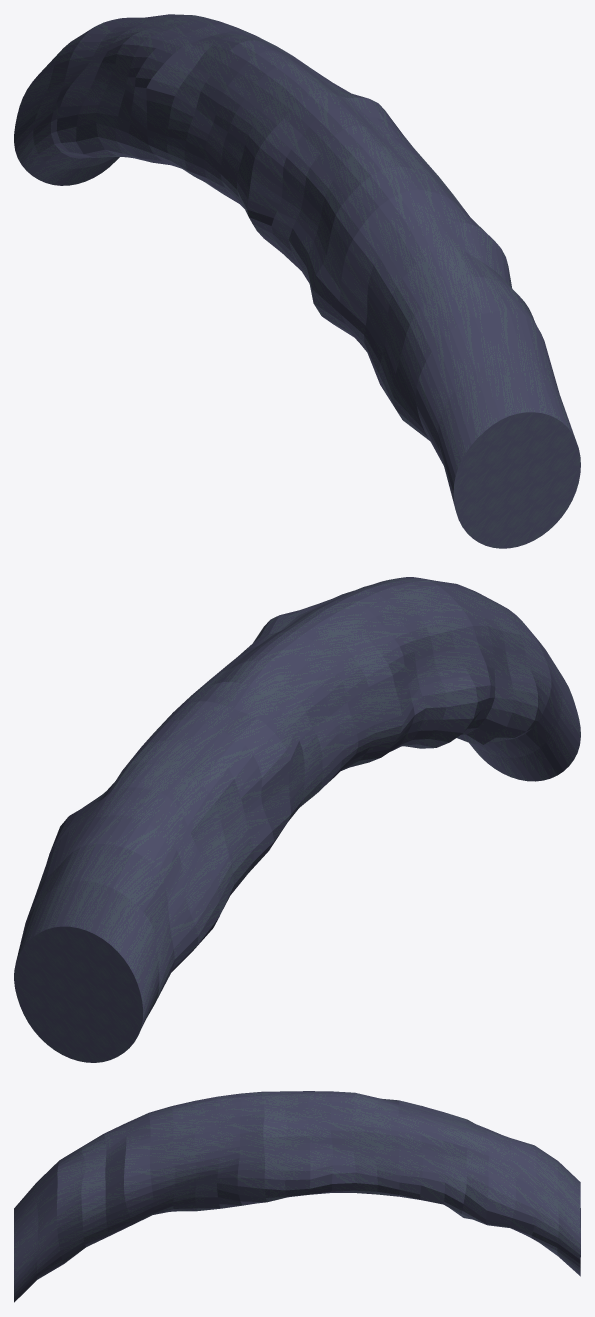
File: SteinBogen.fbx
The picture shows the model from 3 angles, top to bottom: view 1: azimuth 30°, elevation 25°; view 2: azimuth 150°, elevation 25°; view 3: azimuth 270°, elevation 25°; orthographic projection. The views are drawn at different scales.
Visible parts, largest first — view 1: Cylinder; view 2: Cylinder; view 3: Cylinder.
Part boxes in pixels (x1,y1,x2,y2): Cylinder: [14, 14, 580, 548]; Cylinder: [14, 577, 580, 1062]; Cylinder: [14, 1091, 580, 1302].
Bounding box in the file's own units: 278 × 476 × 1201.
